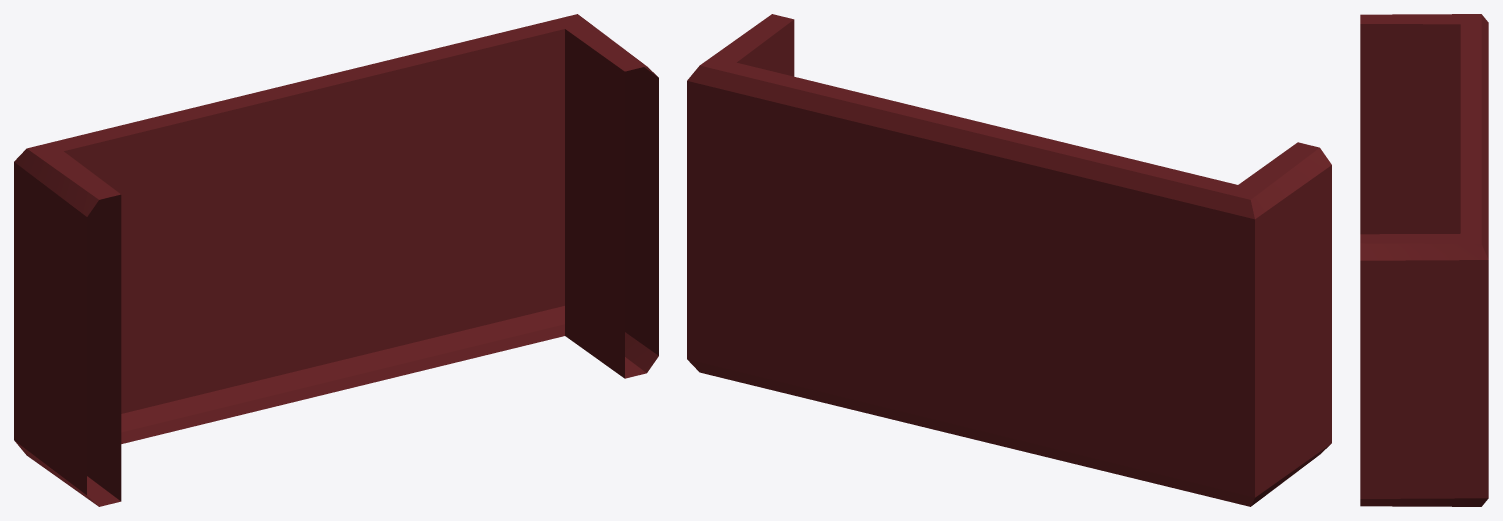
The model's file is Desk 01.FBX.
3 renders of one model, left to right at view 1: azimuth 30°, elevation 25°; view 2: azimuth 150°, elevation 25°; view 3: azimuth 270°, elevation 25°, orthographic. The views are drawn at different scales.
Visible parts, largest first — view 1: Desk 01; view 2: Desk 01; view 3: Desk 01.
Part boxes in pixels (bbox=[...]): Desk 01: bbox=[14, 14, 658, 506]; Desk 01: bbox=[687, 14, 1331, 506]; Desk 01: bbox=[1360, 14, 1488, 506].
Bounding box in the file's own units: 233 × 119 × 52.89.
Materials: 1 (1 with a texture image).
